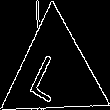L_NE: (31, 42, 77, 102)
